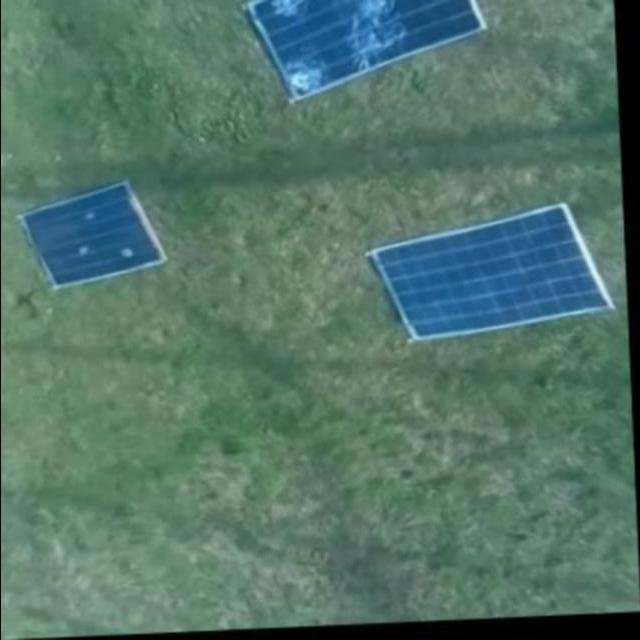cracked: (241, 0, 498, 99)
soiled: (15, 175, 169, 288)
